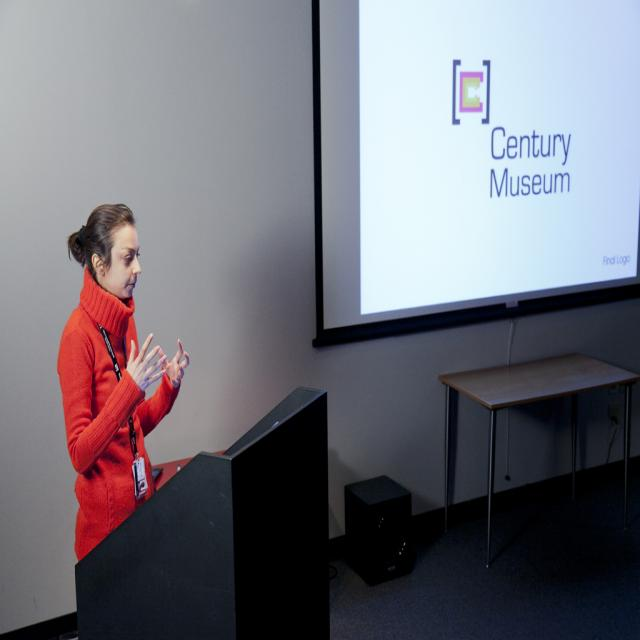desk: (447, 349, 636, 566)
person: (57, 203, 189, 576)
tv: (309, 3, 640, 347), (74, 383, 330, 634)
